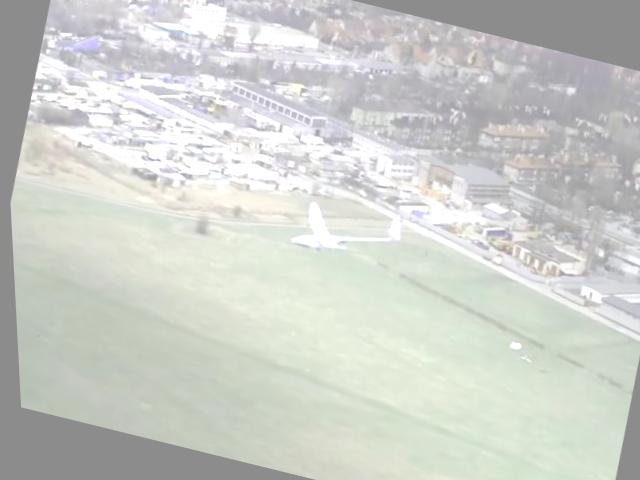flying wing: (282, 188, 409, 276)
